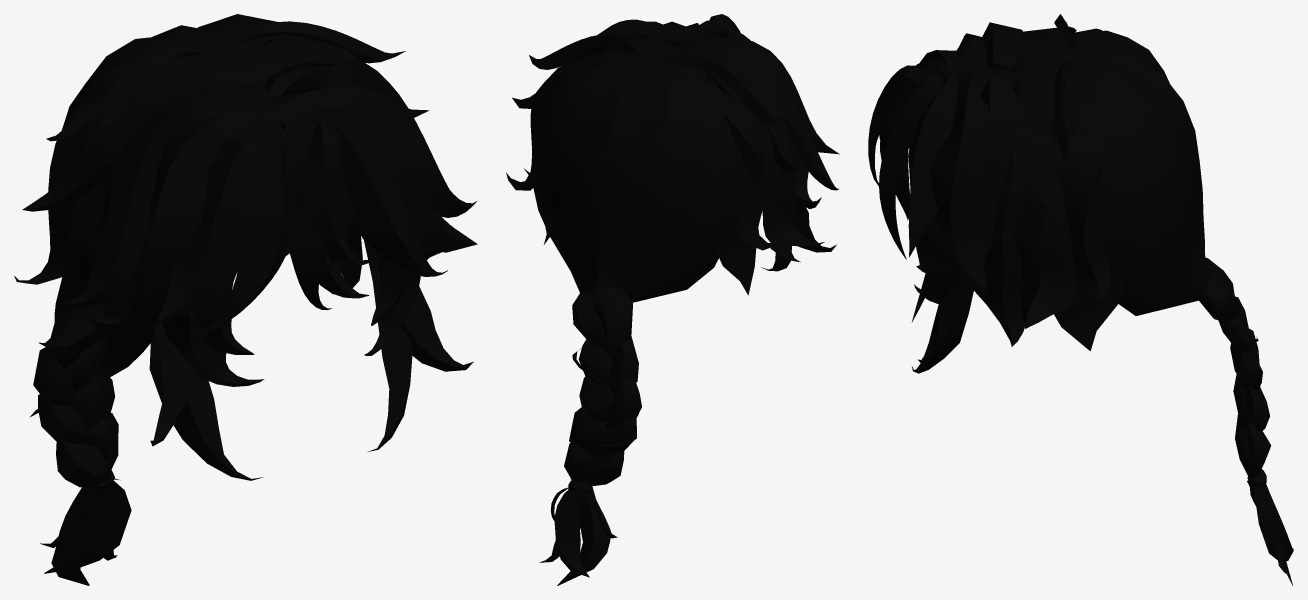
File: 38-Black-Messy-Hair-w-a-Braid-82798715506608.glb
The picture shows the model from 3 angles, left to right: view 1: azimuth 30°, elevation 25°; view 2: azimuth 150°, elevation 25°; view 3: azimuth 270°, elevation 25°; orthographic projection. The views are drawn at different scales.
Parts seen in each view (by area): view 1: 38-Black-Messy-Hair-w-a-Braid-82798715506608; view 2: 38-Black-Messy-Hair-w-a-Braid-82798715506608; view 3: 38-Black-Messy-Hair-w-a-Braid-82798715506608.
Part boxes in pixels (bbox=[...]): 38-Black-Messy-Hair-w-a-Braid-82798715506608: bbox=[14, 14, 477, 585]; 38-Black-Messy-Hair-w-a-Braid-82798715506608: bbox=[506, 14, 839, 585]; 38-Black-Messy-Hair-w-a-Braid-82798715506608: bbox=[868, 14, 1293, 585].
Size of the model in its own units: 2.07 by 3.07 by 2.18.
1 material, 1 textured.
